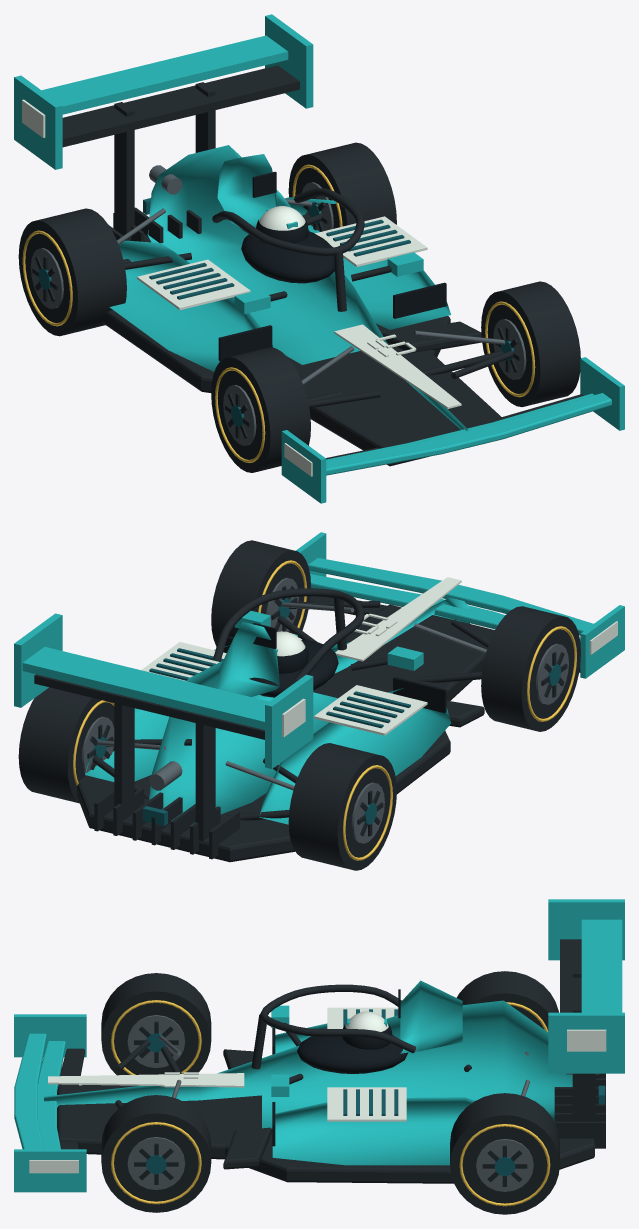
Rendered from formula-r2.glb.
The picture shows the model from 3 angles, top to bottom: view 1: azimuth 30°, elevation 25°; view 2: azimuth 150°, elevation 25°; view 3: azimuth 270°, elevation 25°; orthographic projection. The views are drawn at different scales.
Visible parts, largest first — view 1: body-0, tire (×4), body-2, body-1, body-5, body-6, body-3; view 2: body-0, tire (×4), body-2, body-1, body-5, body-6, body-3; view 3: body-0, tire (×4), body-2, body-1, body-5, body-6.
Part boxes in pixels (bbox=[...]): body-0: bbox=[14, 14, 624, 503]; tire (×4): bbox=[18, 142, 580, 472]; body-2: bbox=[62, 65, 583, 466]; body-1: bbox=[22, 99, 461, 476]; body-5: bbox=[218, 171, 446, 361]; body-6: bbox=[143, 198, 410, 299]; body-3: bbox=[117, 165, 505, 384]; body-0: bbox=[14, 532, 624, 825]; tire (×4): bbox=[18, 540, 580, 870]; body-2: bbox=[34, 588, 580, 862]; body-1: bbox=[141, 577, 617, 737]; body-5: bbox=[218, 623, 446, 713]; body-6: bbox=[143, 648, 410, 825]; body-3: bbox=[97, 602, 486, 790]; body-0: bbox=[14, 899, 624, 1192]; tire (×4): bbox=[101, 971, 559, 1214]; body-2: bbox=[57, 939, 605, 1183]; body-1: bbox=[29, 1007, 606, 1173]; body-5: bbox=[272, 989, 407, 1146]; body-6: bbox=[343, 1009, 605, 1115].
Bounding box in the file's own units: 2.74 × 1.6 × 4.78.
